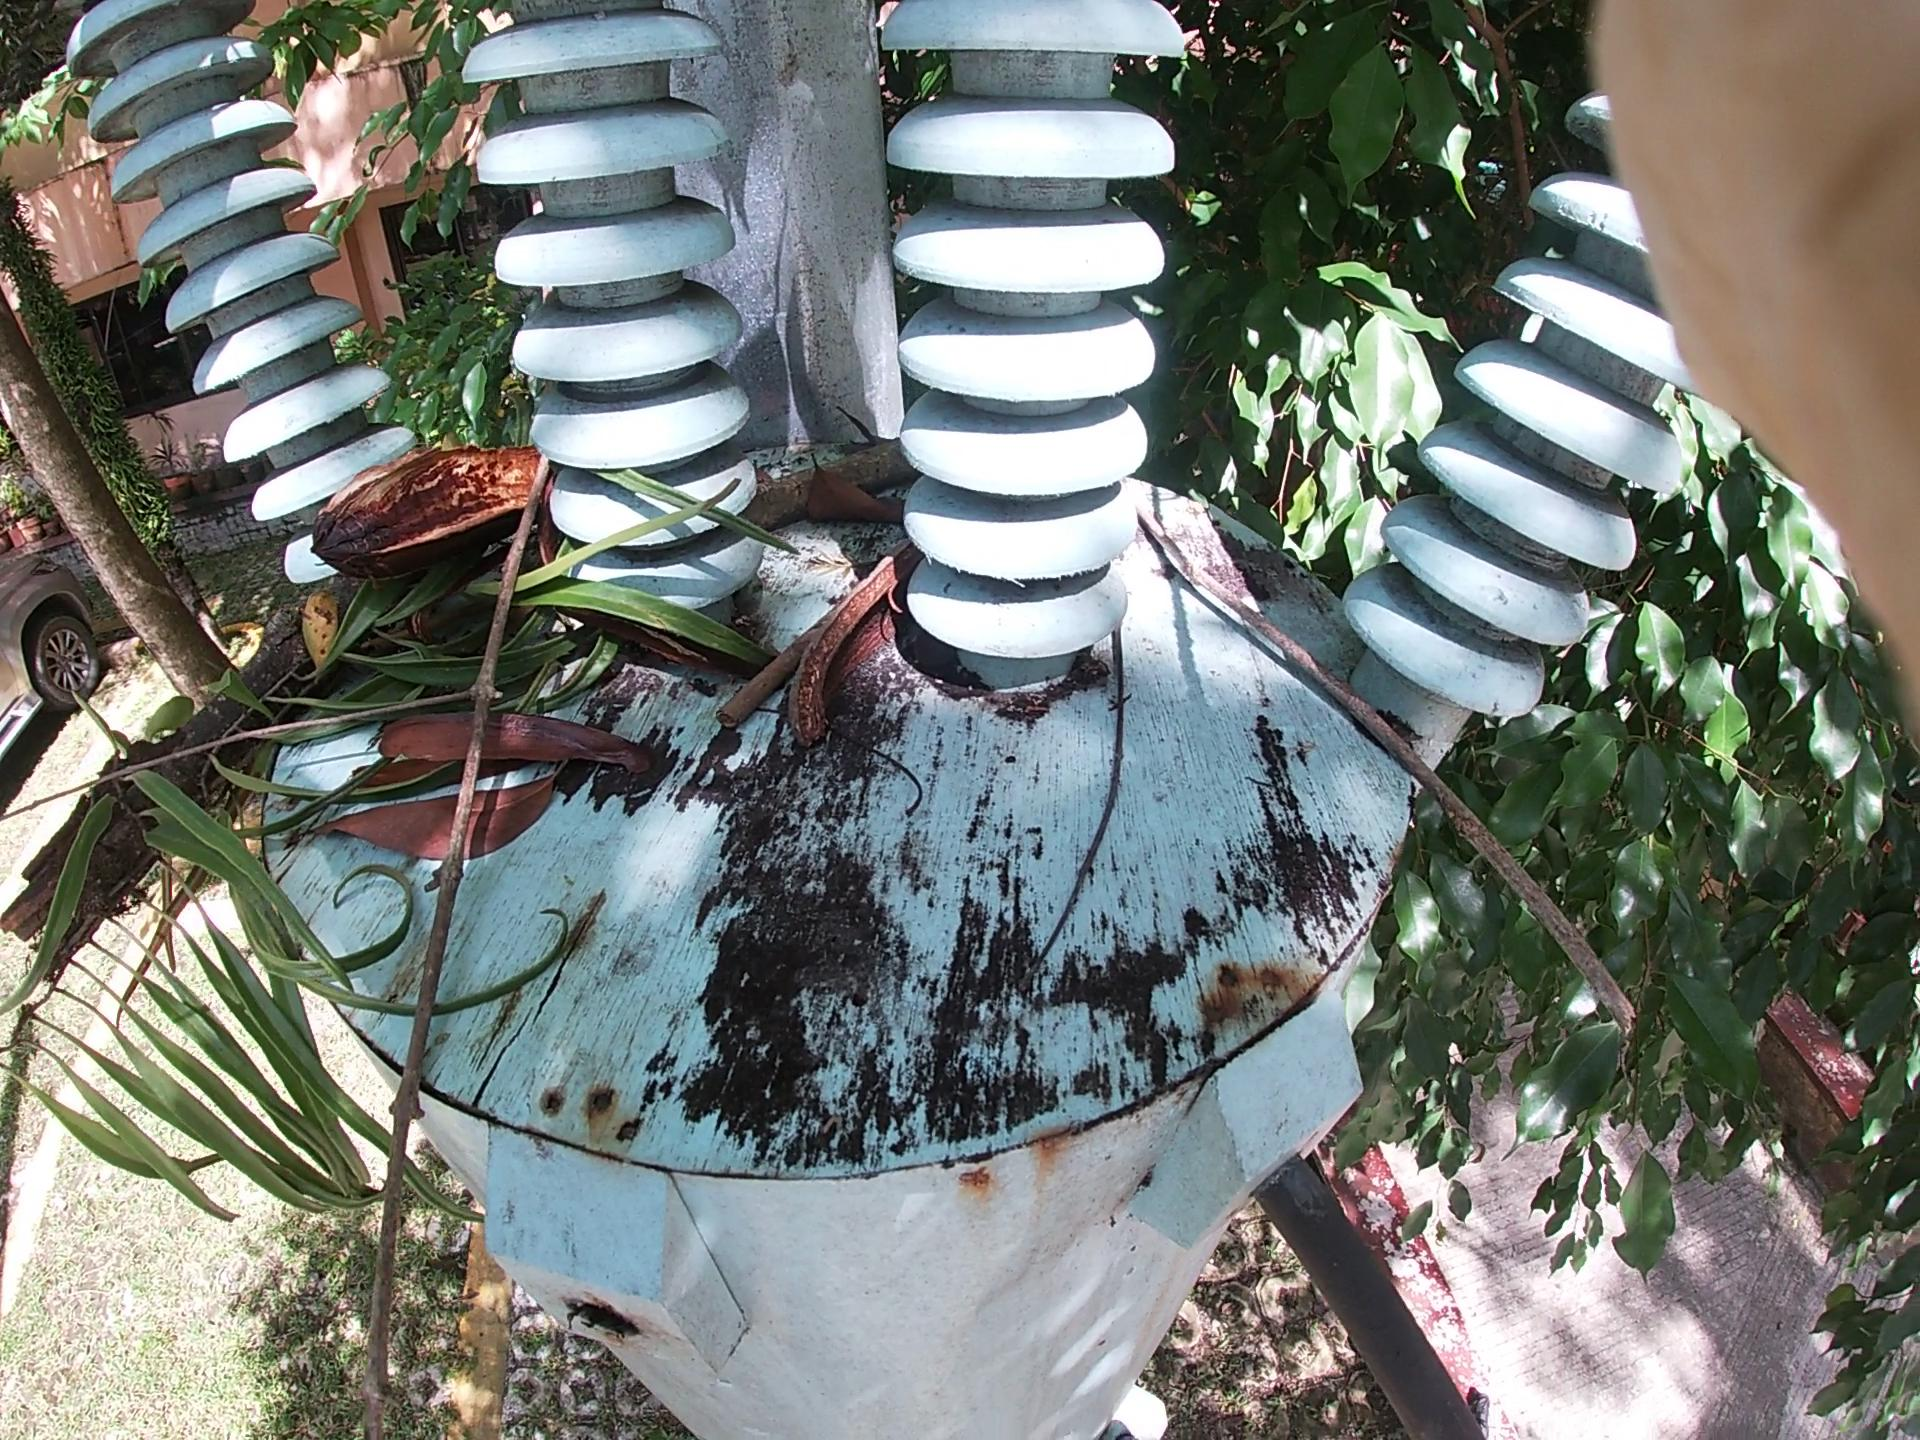branch with leaves: (59, 237, 701, 939)
leaf: (272, 663, 593, 933), (830, 427, 977, 579)
mahogany fruit: (310, 451, 571, 594), (770, 546, 928, 749)
tree branch: (408, 489, 632, 1324), (1160, 522, 1581, 961), (714, 383, 1063, 715)
